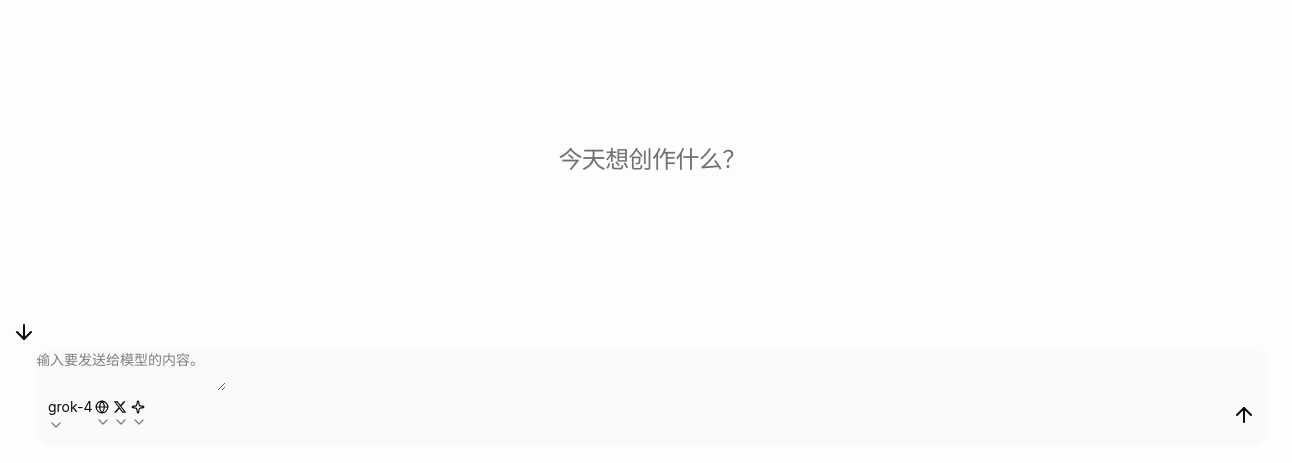
it: 创作台聊天面板 › 流式失败展示错误文案并保留已收到的部分内容
The width and height of the screenshot is (1292, 463).
Type "你好" into the text box with test id "chat-prompt".
click(131, 370); type("你好")  # box [36,349,226,391]
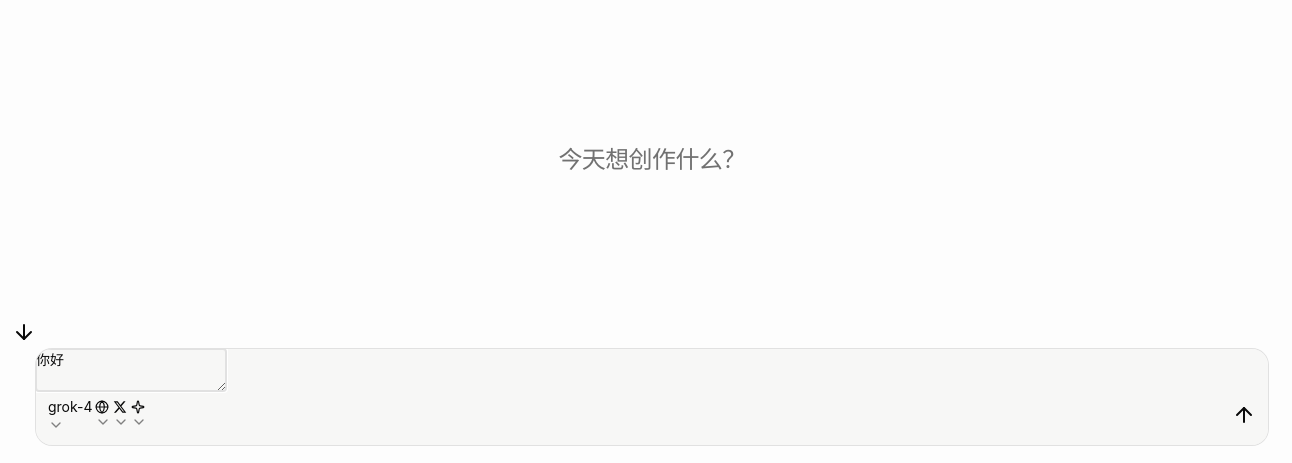
Click the button with test id "chat-send".
click(1244, 414)  # box [1232,402,1256,426]
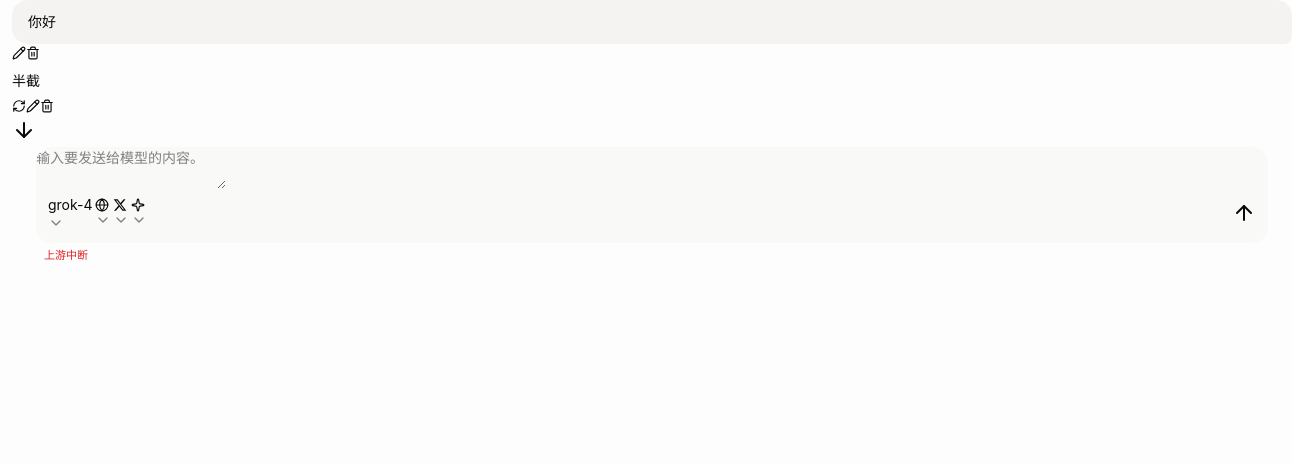
expect the text "上游中断" is shown: met, box [44,248,88,262]
expect the text "半截" is shown: met, box [12,72,40,89]
